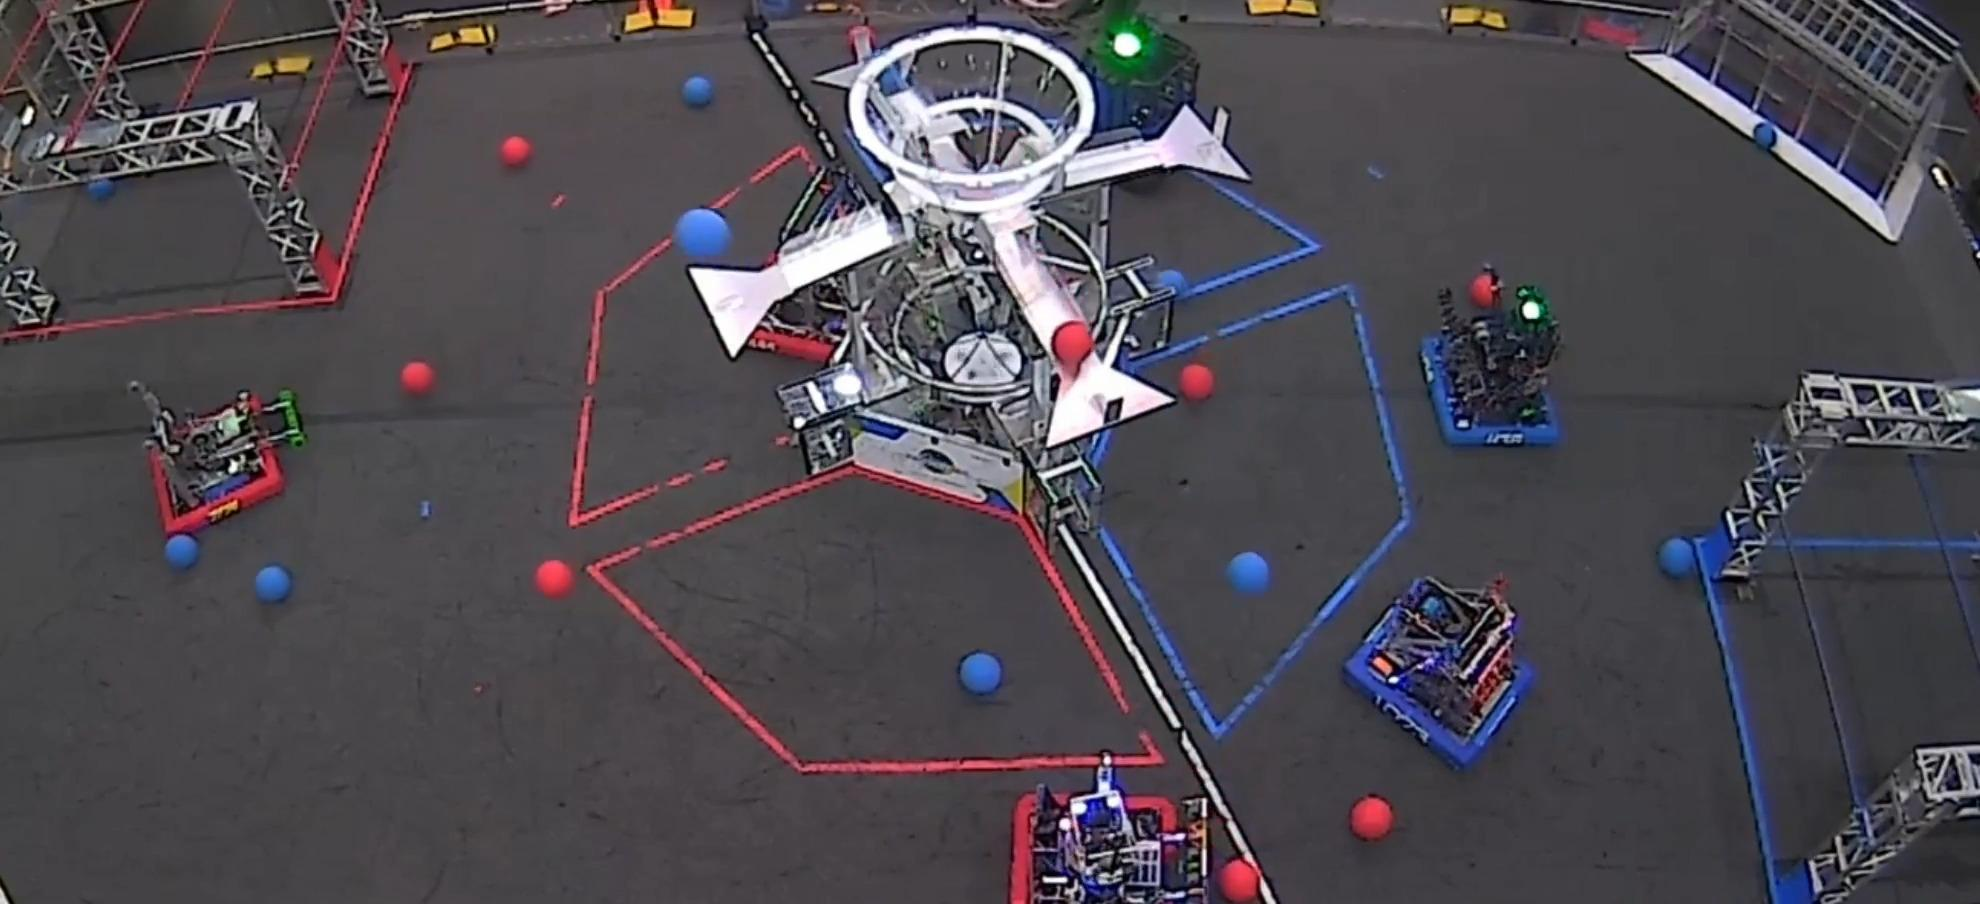Robots: (1346, 577, 1530, 766), (1019, 754, 1207, 903), (129, 381, 306, 532), (1424, 265, 1560, 444), (1078, 14, 1201, 173), (756, 160, 851, 340)
